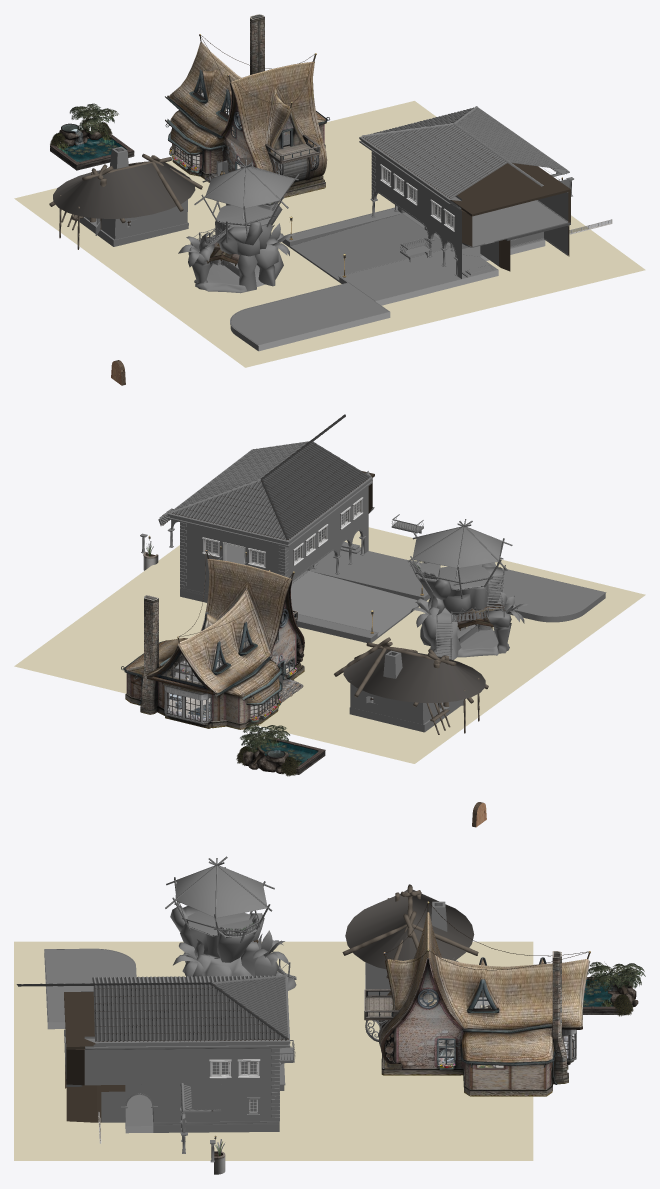
The picture shows the model from 3 angles, top to bottom: view 1: azimuth 30°, elevation 25°; view 2: azimuth 150°, elevation 25°; view 3: azimuth 270°, elevation 25°; orthographic projection. The views are drawn at different scales.
Parts seen in each view (by area): view 1: roma Left wing2 (×15), Terrain 2,1, prim0-mesh (×3), Tiki Blue Reef Bar (×3), Maison toit chaume, CP Koi Pond (×5), Roma Left, LAQ CAMINO, ferme kamelot 73; view 2: Terrain 2,1, roma Left wing2 (×17), prim0-mesh (×7), Tiki Blue Reef Bar (×2), Maison toit chaume, CP Koi Pond (×3), LAQ CAMINO, ferme kamelot 73; view 3: Terrain 2,1, roma Left wing2 (×15), prim0-mesh (×8), Tiki Blue Reef Bar (×4), Maison toit chaume, Roma Left, CP Koi Pond (×2), LAQ CAMINO.
Part boxes in pixels (x1,y1,x2,y2): roma Left wing2 (×15): (230,108,570,351); Terrain 2,1: (14,101,645,367); prim0-mesh (×3): (165,34,327,182); Tiki Blue Reef Bar (×3): (178,159,299,293); Maison toit chaume: (53,146,195,239); CP Koi Pond (×5): (50,103,134,170); Roma Left: (480,222,569,271); LAQ CAMINO: (250,14,264,74); ferme kamelot 73: (77,217,188,246); Terrain 2,1: (14,527,645,763); roma Left wing2 (×17): (167,441,606,642); prim0-mesh (×7): (121,550,304,729); Tiki Blue Reef Bar (×2): (408,519,512,660); Maison toit chaume: (343,648,485,724); CP Koi Pond (×3): (240,722,317,773); LAQ CAMINO: (140,595,158,714); ferme kamelot 73: (349,697,460,732); Terrain 2,1: (14,941,533,1160); roma Left wing2 (×15): (16,948,290,1133); prim0-mesh (×8): (364,901,590,1096); Tiki Blue Reef Bar (×4): (165,856,296,990); Maison toit chaume: (345,889,474,989); Roma Left: (65,1060,125,1122); CP Koi Pond (×2): (583,962,645,1006); LAQ CAMINO: (551,951,568,1084).
Size of what is drawn, in the model's own units: 68.41 by 37.24 by 77.89.
447 materials, 443 textured.
